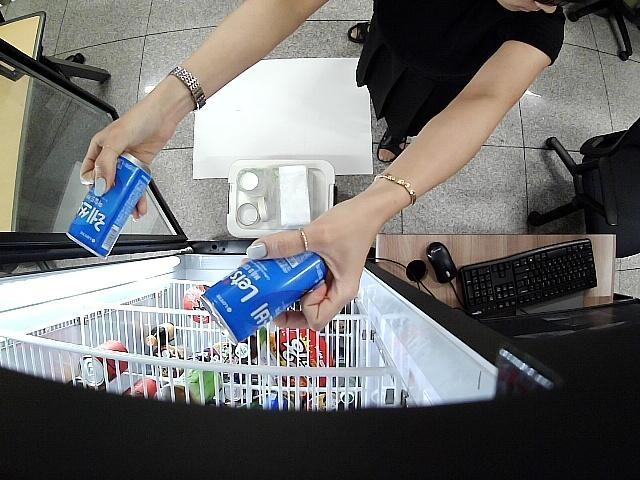15_letsbe: (198, 251, 327, 346), (68, 151, 150, 260)
